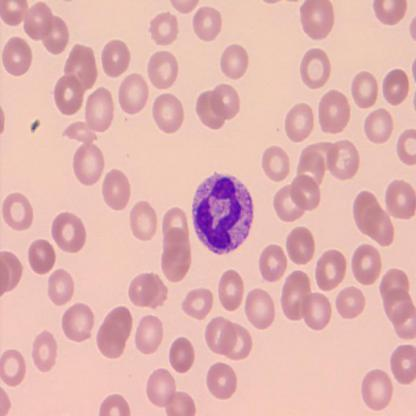Segmented neutrophil: (189, 168, 255, 257)
